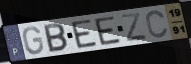B: (42, 22, 69, 54)
C: (145, 9, 170, 39)
E: (69, 18, 99, 50), (93, 15, 122, 47)
G: (22, 26, 45, 56)
Z: (120, 12, 149, 43)
